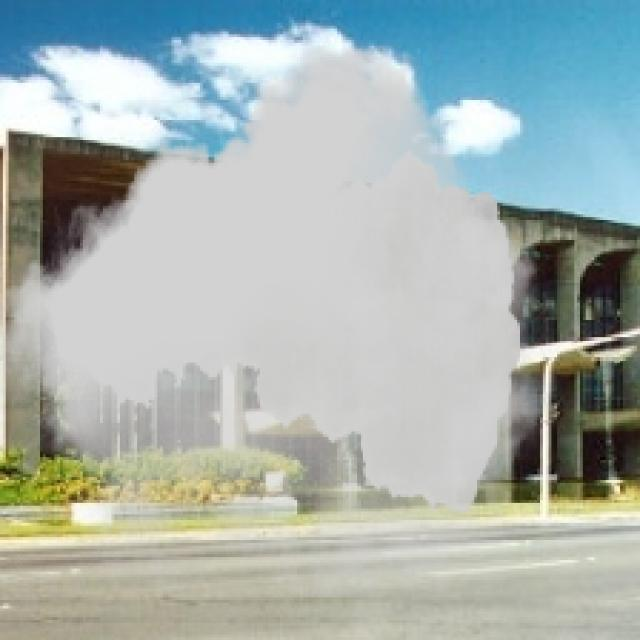Smoke: (3, 45, 546, 598)
